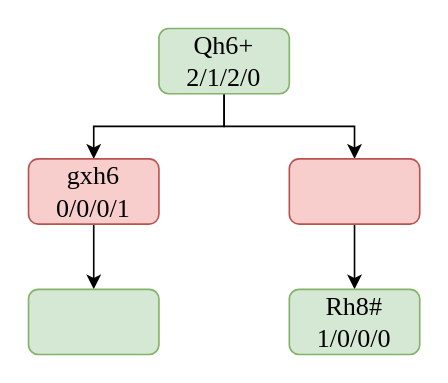
Image size: 448x383. Some labels were removed from this diagram. Each missing label, with the centre of its shape:
Kxh6 1/1/0/1: the point at 354,190
Rxf7# 2/1/0/0: the point at 93,321
